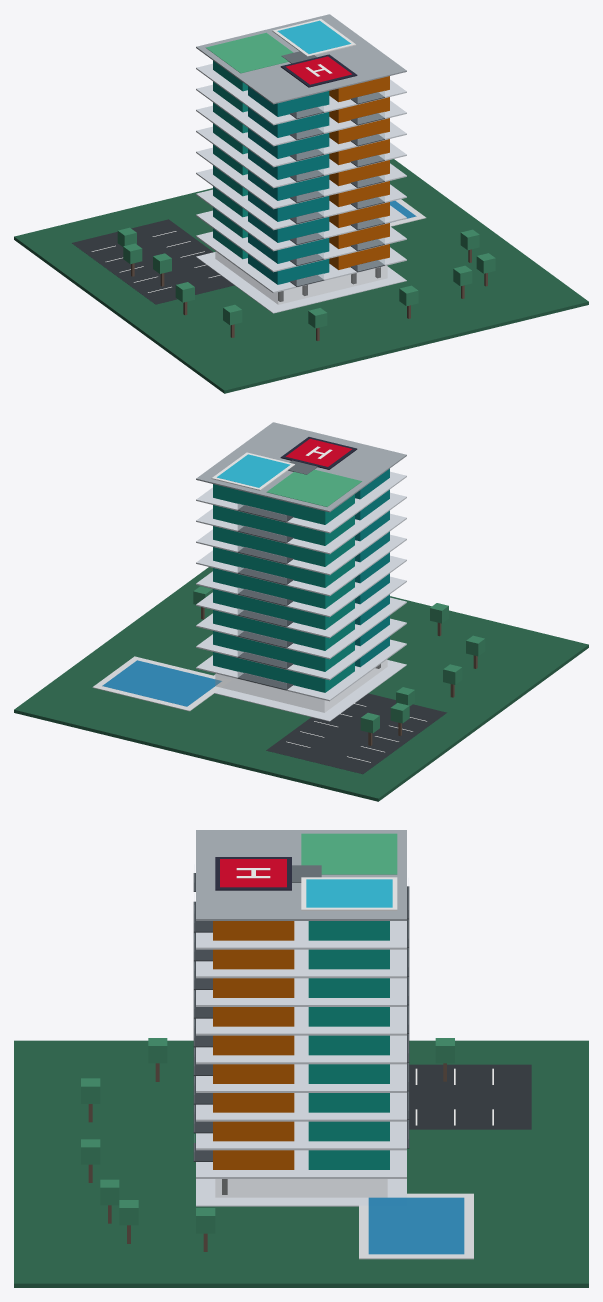
The model's file is building.glb.
3 views of the same model, one above another, from view 1: azimuth 30°, elevation 25°; view 2: azimuth 150°, elevation 25°; view 3: azimuth 270°, elevation 25° (orthographic). The views are drawn at different scales.
Visible parts, largest first — view 1: GroundBase, Rooftop_Amenities, ParkingLot, Slab_0, SkyGarden, GrandLobby_Interior, SkyPoolDeck, Slab_7, Slab_6, Slab_9, Slab_2, Slab_3 (+32 smaller); view 2: GroundBase, ParkingLot, Rooftop_Amenities, PoolDeck, Slab_0, PoolWater, SkyGarden, GrandLobby_Interior, Flat_C_Floor_5, Flat_C_Floor_6, Flat_C_Floor_3, Flat_C_Floor_4 (+16 smaller); view 3: GroundBase, Rooftop_Amenities, ParkingLot, PoolDeck, Slab_0, PoolWater, SkyGarden, SkyPoolDeck, GrandLobby_Interior, Slab_2, Slab_5, Slab_8 (+33 smaller).
Boxes of the visible parts, <box> form: GroundBase: <box>14,159,588,393</box>; Rooftop_Amenities: <box>196,14,406,104</box>; ParkingLot: <box>72,219,234,304</box>; Slab_0: <box>196,252,406,313</box>; SkyGarden: <box>205,32,293,73</box>; GrandLobby_Interior: <box>215,251,387,304</box>; SkyPoolDeck: <box>272,19,356,56</box>; Slab_7: <box>196,105,406,167</box>; Slab_6: <box>196,126,406,188</box>; Slab_9: <box>196,63,406,125</box>; Slab_2: <box>196,210,406,272</box>; Slab_3: <box>196,189,406,251</box>; GroundBase: <box>14,567,588,801</box>; ParkingLot: <box>266,693,446,774</box>; Rooftop_Amenities: <box>196,422,406,512</box>; PoolDeck: <box>92,656,231,711</box>; Slab_0: <box>214,660,406,721</box>; PoolWater: <box>102,660,221,706</box>; SkyGarden: <box>266,469,361,506</box>; GrandLobby_Interior: <box>215,659,387,712</box>; Flat_C_Floor_5: <box>213,568,354,608</box>; Flat_C_Floor_6: <box>213,547,354,587</box>; Flat_C_Floor_3: <box>213,610,354,650</box>; Flat_C_Floor_4: <box>213,589,354,629</box>; GroundBase: <box>14,1040,588,1287</box>; Rooftop_Amenities: <box>196,830,406,920</box>; ParkingLot: <box>409,1064,531,1129</box>; PoolDeck: <box>359,1193,473,1259</box>; Slab_0: <box>196,1179,406,1206</box>; PoolWater: <box>368,1197,464,1254</box>; SkyGarden: <box>301,833,397,874</box>; SkyPoolDeck: <box>301,877,397,910</box>; GrandLobby_Interior: <box>215,1179,387,1197</box>; Slab_2: <box>196,1121,406,1150</box>; Slab_5: <box>196,1035,406,1064</box>; Slab_8: <box>196,949,406,978</box>.
Bounding box in the file's own units: 60 × 33.78 × 60.
